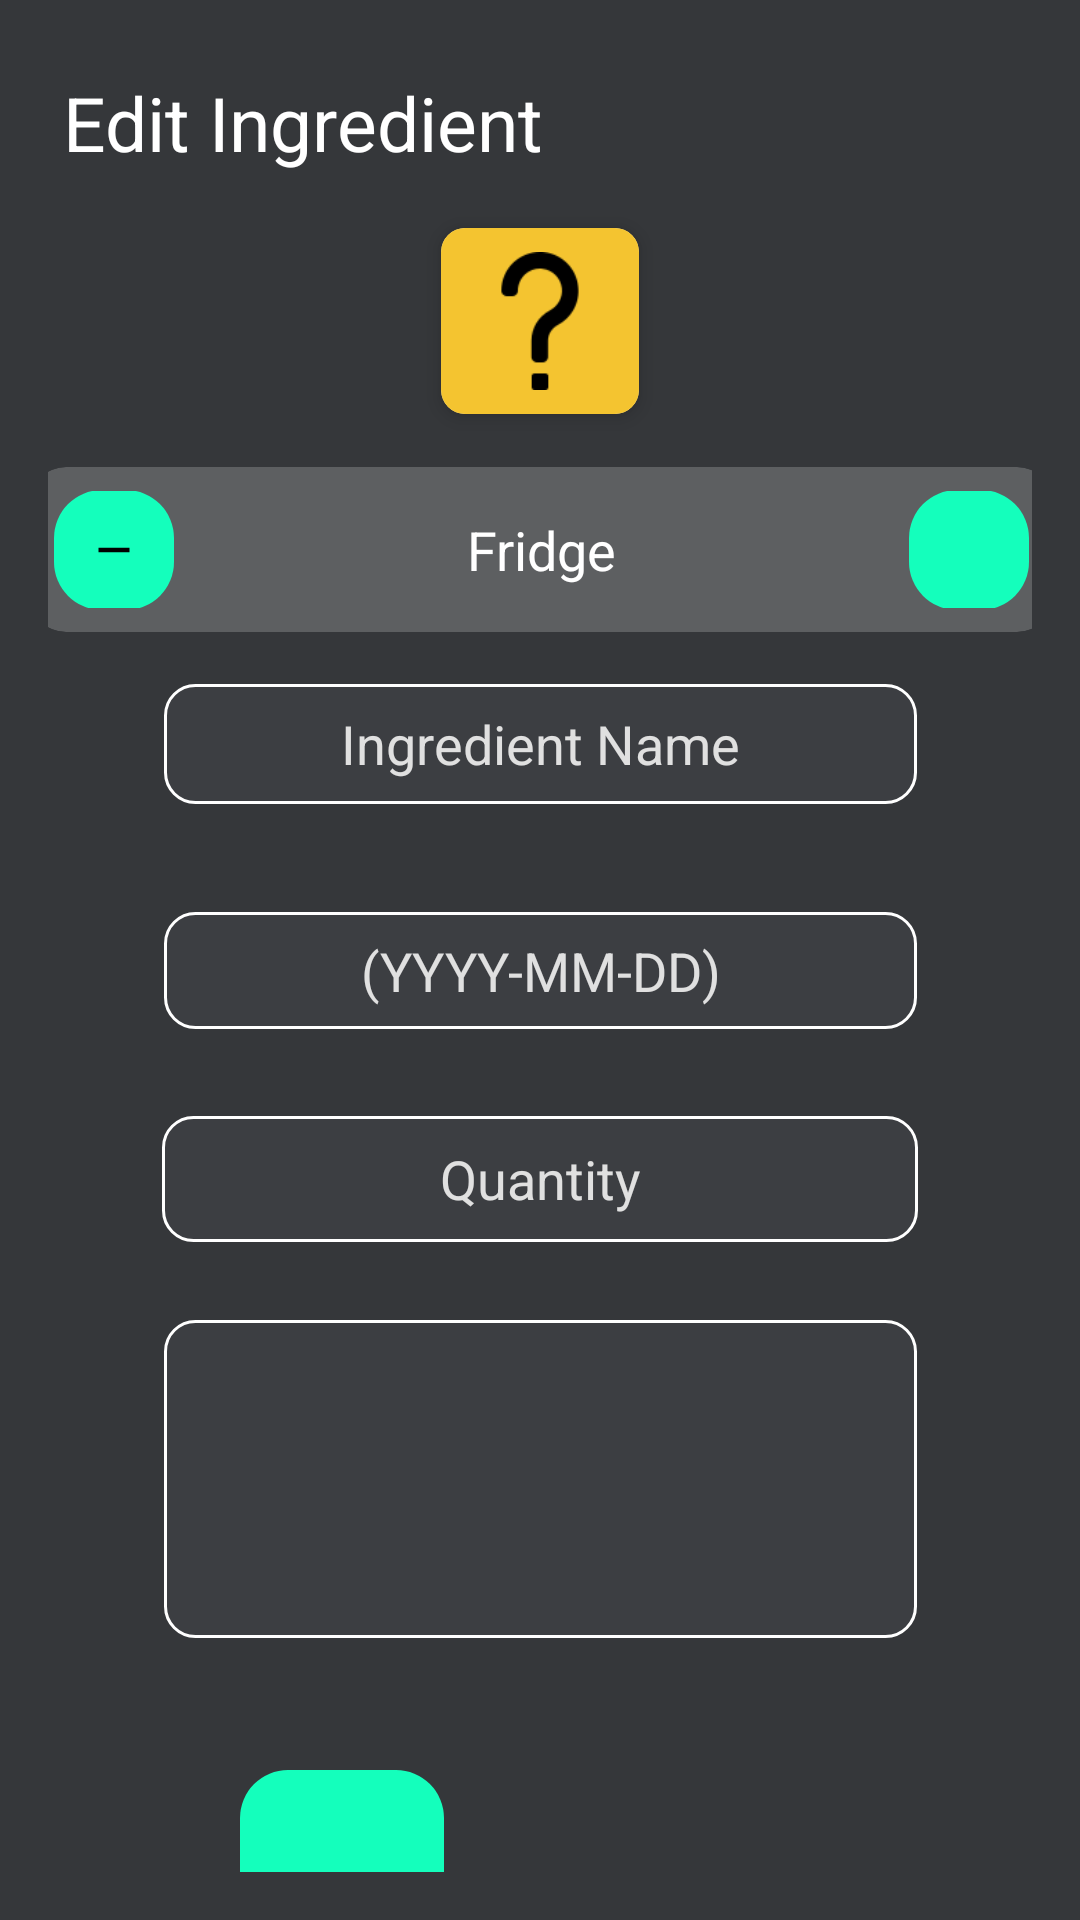

Screen size 1080×1920. Icon name, then its center in pixels as (x=x, y=y):
decrease quantity: (x=114, y=549)
Tap to select ingredient image: (x=540, y=321)
